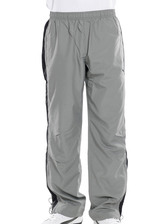clothoes: (38, 11, 131, 221)
